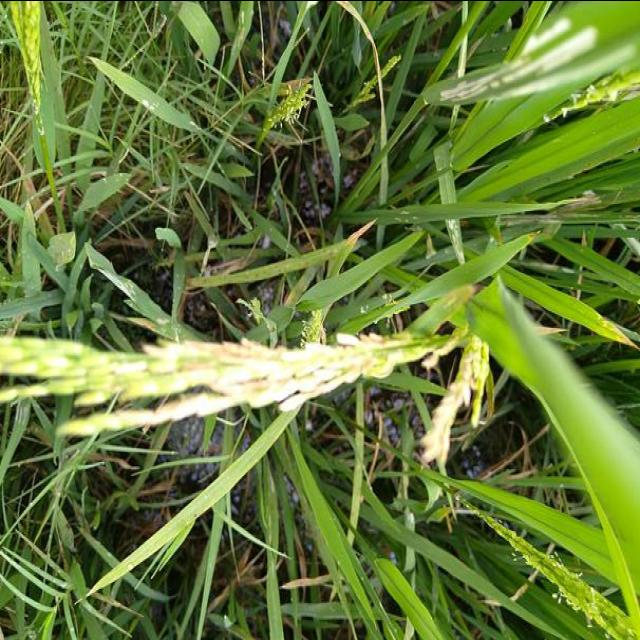Leaf Streak: (449, 27, 599, 101)
